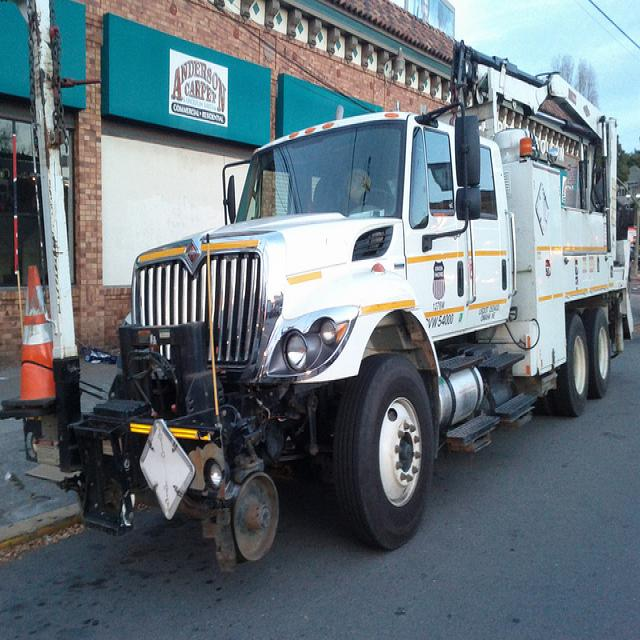Vehicle: (70, 48, 635, 572)
